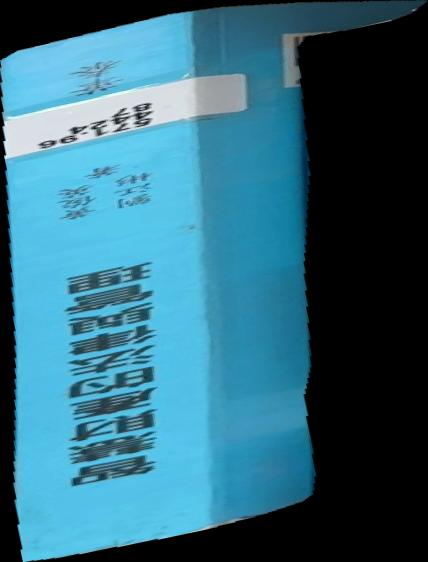reverse: (1, 1, 428, 562)
